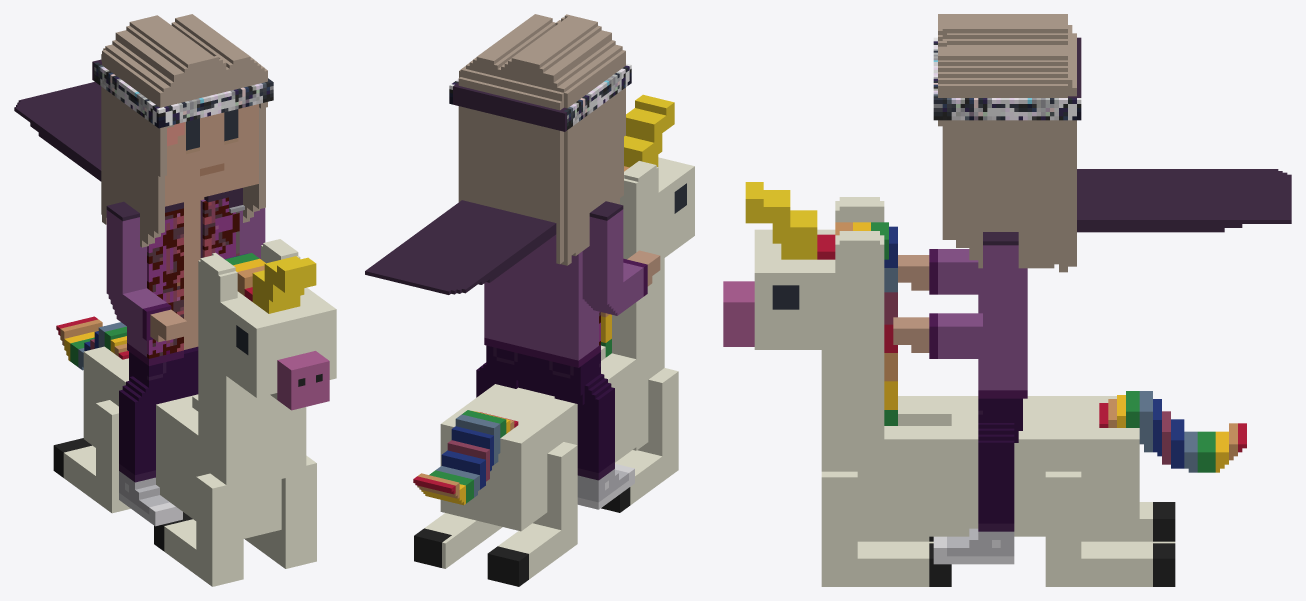
File: unicorn.glb
3 renders of one model, left to right at view 1: azimuth 30°, elevation 25°; view 2: azimuth 150°, elevation 25°; view 3: azimuth 270°, elevation 25°, orthographic. The views are drawn at different scales.
Parts seen in each view (by area): view 1: unicorn solo.vox.005; view 2: unicorn solo.vox.005; view 3: unicorn solo.vox.005.
Part boxes in pixels (box(x1,y1,x2,y2)): unicorn solo.vox.005: box(14, 14, 336, 586); unicorn solo.vox.005: box(365, 14, 694, 586); unicorn solo.vox.005: box(723, 14, 1291, 586).
Bounding box in the file's own units: 4.1 × 13.1 × 12.7.
Materials: 1 (1 with a texture image).
